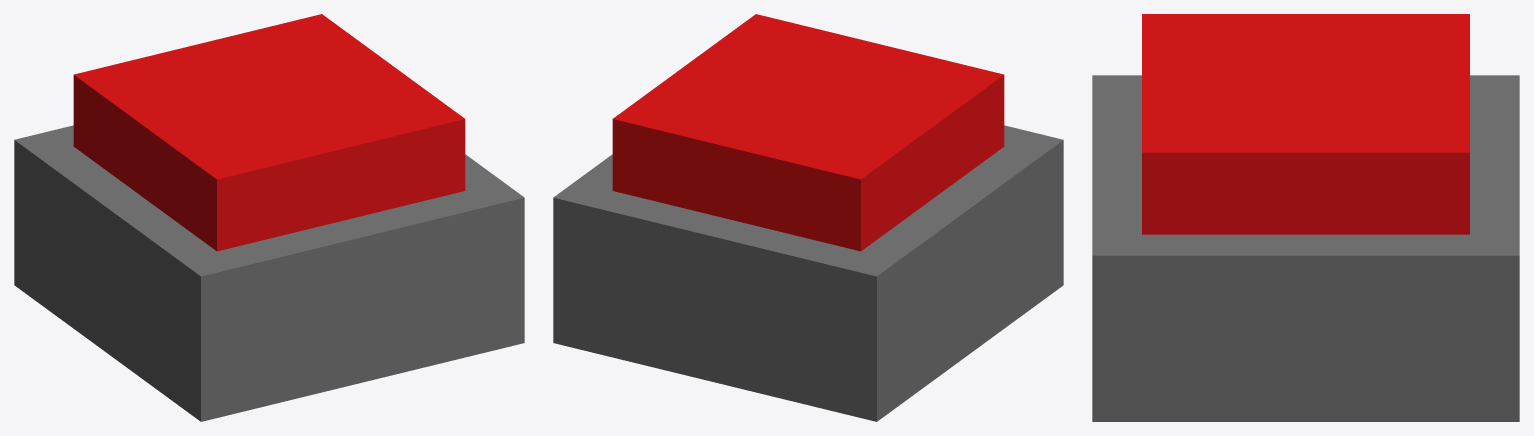
Rendered from pod_button_lunch.glb.
3 views of the same model, side by side, from view 1: azimuth 30°, elevation 25°; view 2: azimuth 150°, elevation 25°; view 3: azimuth 270°, elevation 25° (orthographic). The views are drawn at different scales.
Visible parts, largest first — view 1: pod_button_lunch, pod_button_lunch.001; view 2: pod_button_lunch, pod_button_lunch.001; view 3: pod_button_lunch, pod_button_lunch.001.
Part boxes in pixels (<box>): pod_button_lunch: <box>14,125,524,421</box>; pod_button_lunch.001: <box>73,14,465,251</box>; pod_button_lunch: <box>553,125,1063,421</box>; pod_button_lunch.001: <box>612,14,1004,251</box>; pod_button_lunch: <box>1092,75,1519,421</box>; pod_button_lunch.001: <box>1142,14,1469,234</box>.
Size of the model in its own units: 0.2166 by 0.139 by 0.2166.
